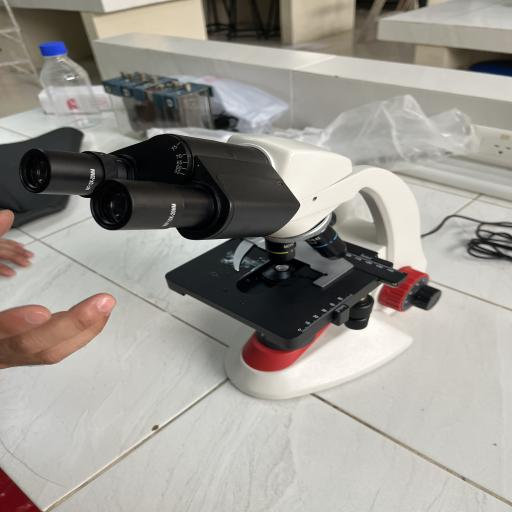Microscopio_Binocular: (12, 109, 457, 426)
